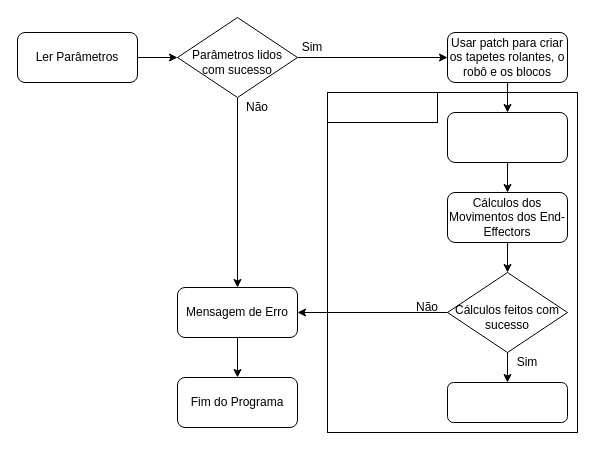
This 595x450 diagram has some shape labels left out. Here are the shapes that lost their labels. From the top down, the box of each, then its label:
(326, 92, 438, 122): for iter=1:iterations
(446, 112, 568, 162): Posicionamento Aleatório dos Blocos
(446, 382, 568, 422): Mostrar Animação
